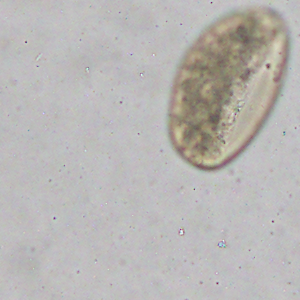Fasciola_hepatica_egg: (167, 2, 290, 173)
